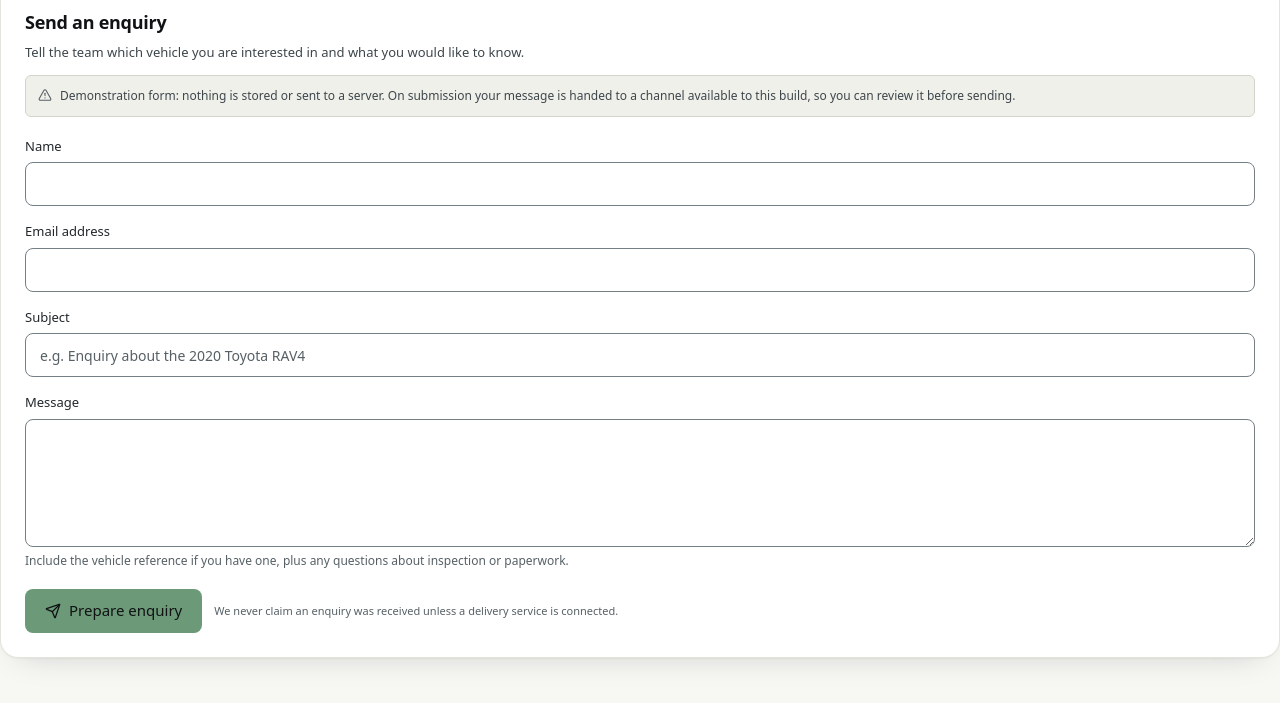
EnquiryForm validation › rejects a malformed email address and a short message
Type "Ada Okeke" into the field labelled "Name".
click(640, 184); type("Ada Okeke")  # box top-left (25, 162), bottom-right (1255, 206)
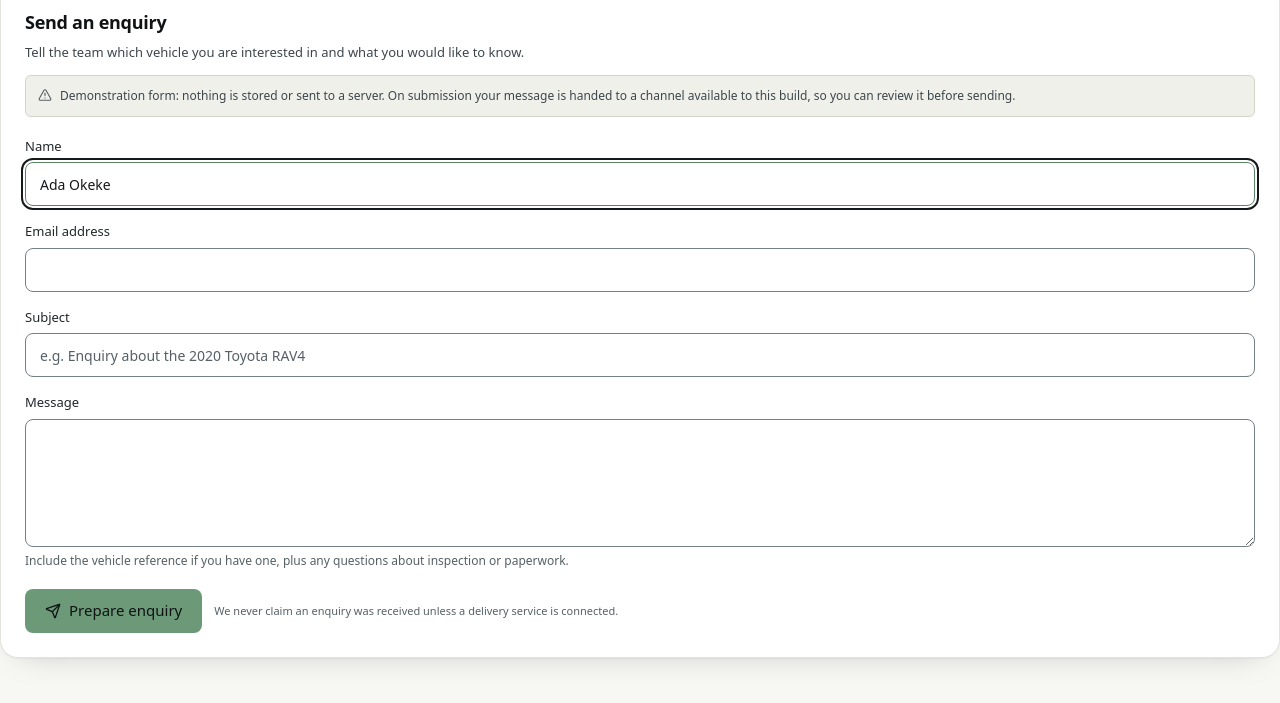
Type "ada@" into the field labelled "Email address".
click(640, 270); type("ada@")  # box top-left (25, 248), bottom-right (1255, 292)
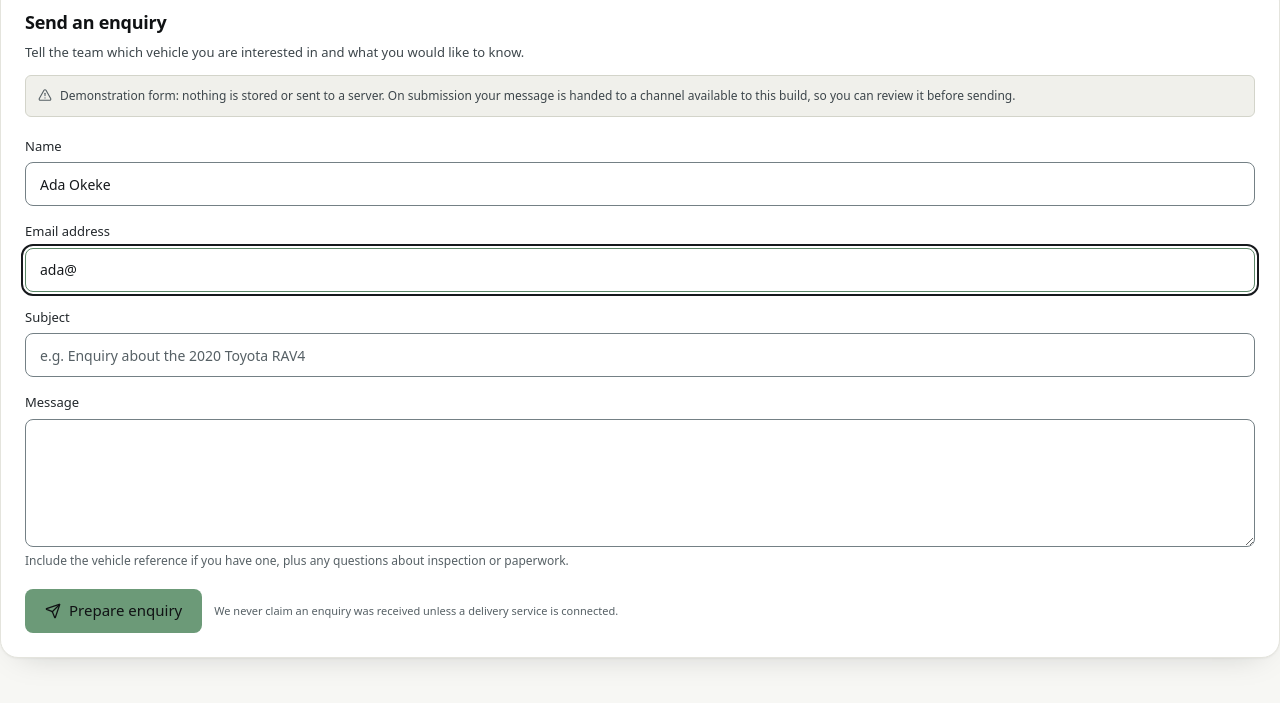
Type "Vehicle enquiry" into the field labelled "Subject".
click(640, 355); type("Vehicle enquiry")  # box top-left (25, 333), bottom-right (1255, 377)
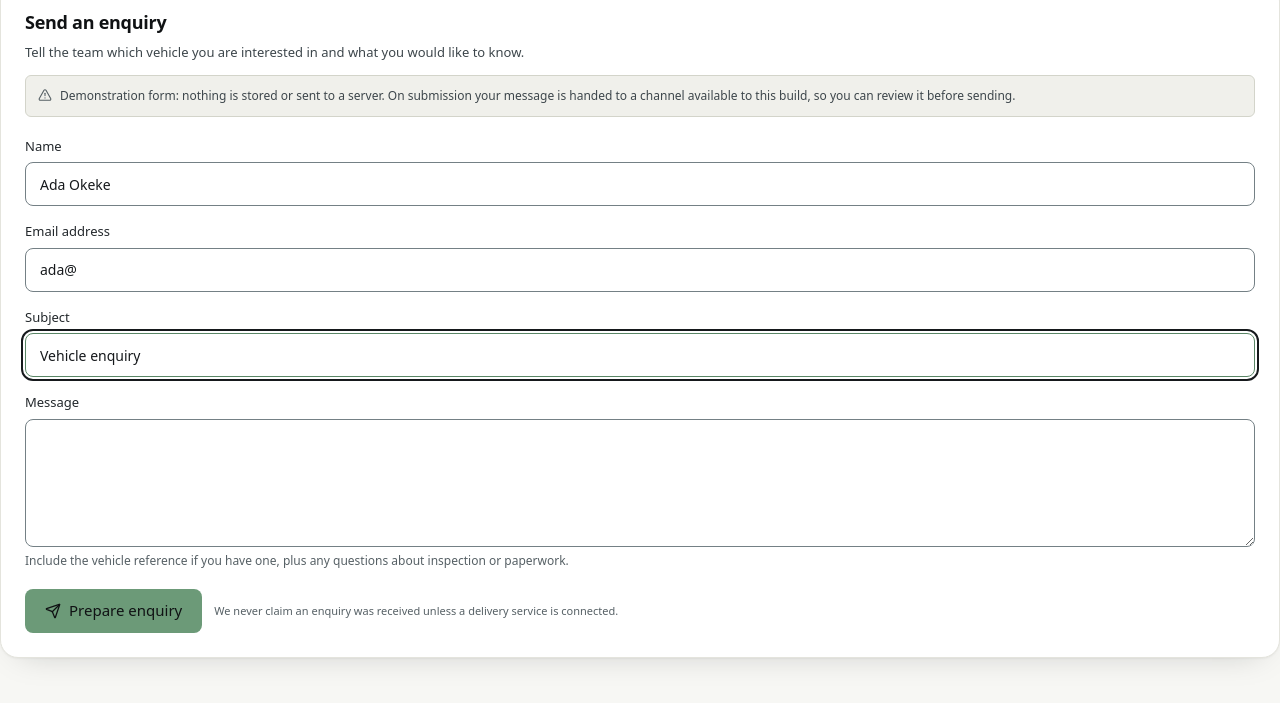
Type "Too short" into the text box labelled "Message".
click(640, 483); type("Too short")  # box top-left (25, 419), bottom-right (1255, 547)
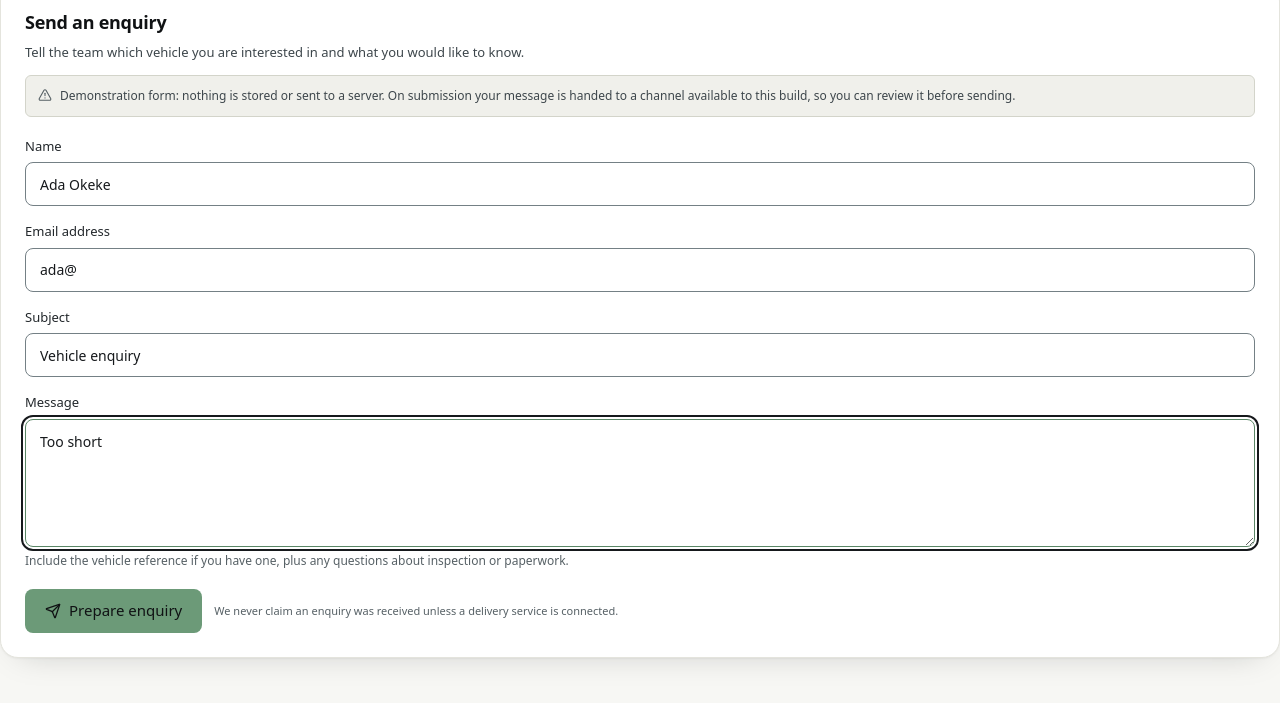
Click the button "Prepare enquiry".
click(114, 611)  # box top-left (25, 589), bottom-right (202, 633)
(page scrolled)
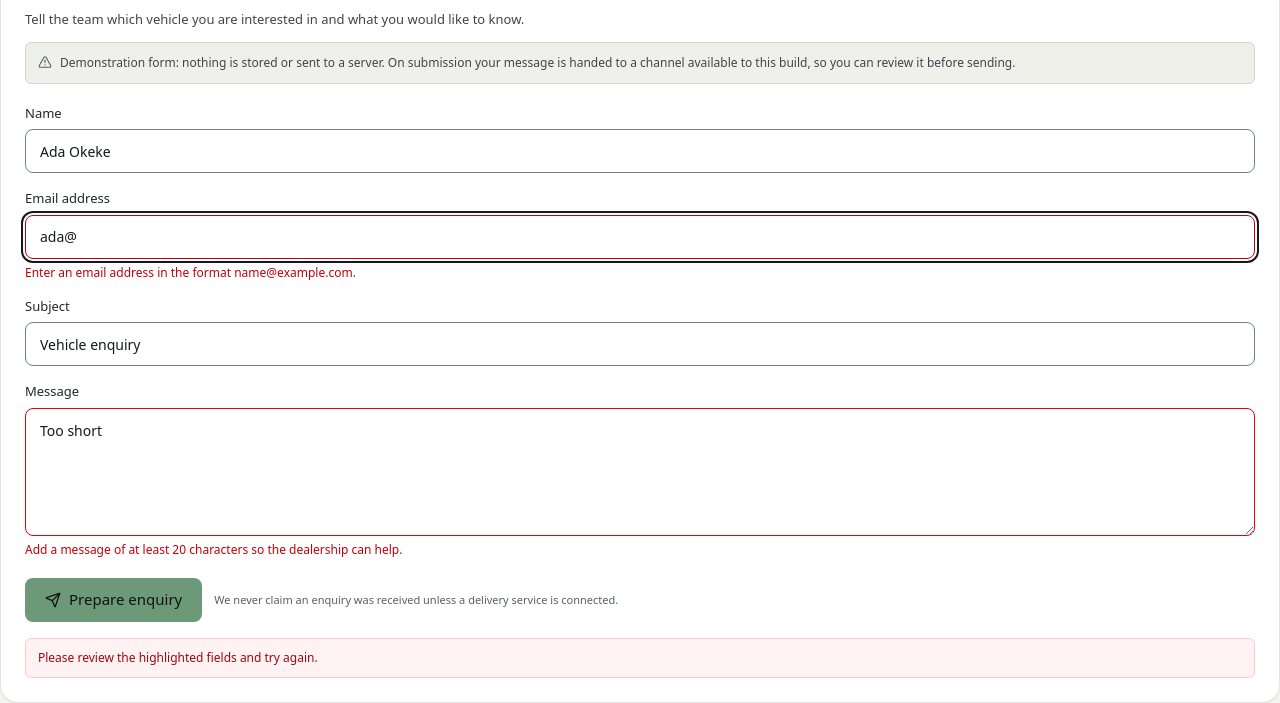
Expected: the text "Enter an email address in the format name@example.com." is shown, top-left (25, 264), bottom-right (356, 281)
Expected: the text "at least 20 characters" is shown, top-left (25, 541), bottom-right (402, 558)
Expected: the text "Please review the highlighted fields and try again." is shown, top-left (25, 638), bottom-right (1255, 678)
